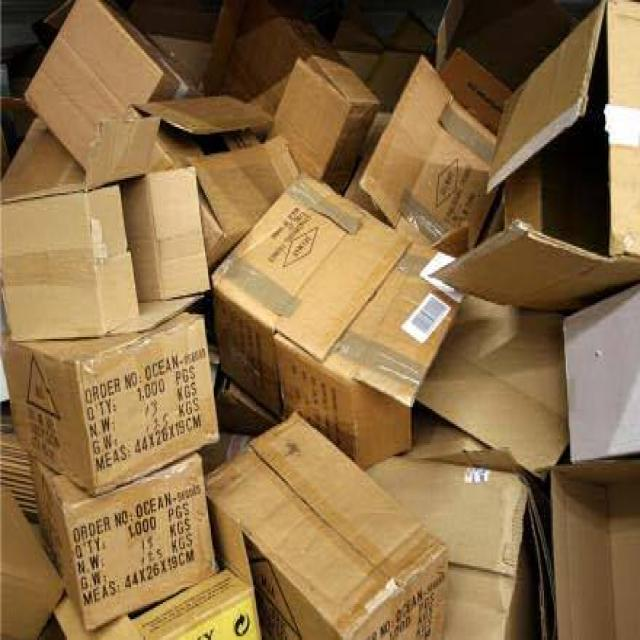cardboard: (447, 300, 639, 640), (215, 178, 451, 449), (445, 2, 640, 299), (222, 411, 448, 640), (18, 455, 252, 640), (0, 124, 202, 328), (184, 41, 446, 195), (4, 325, 221, 491), (10, 0, 184, 180)
